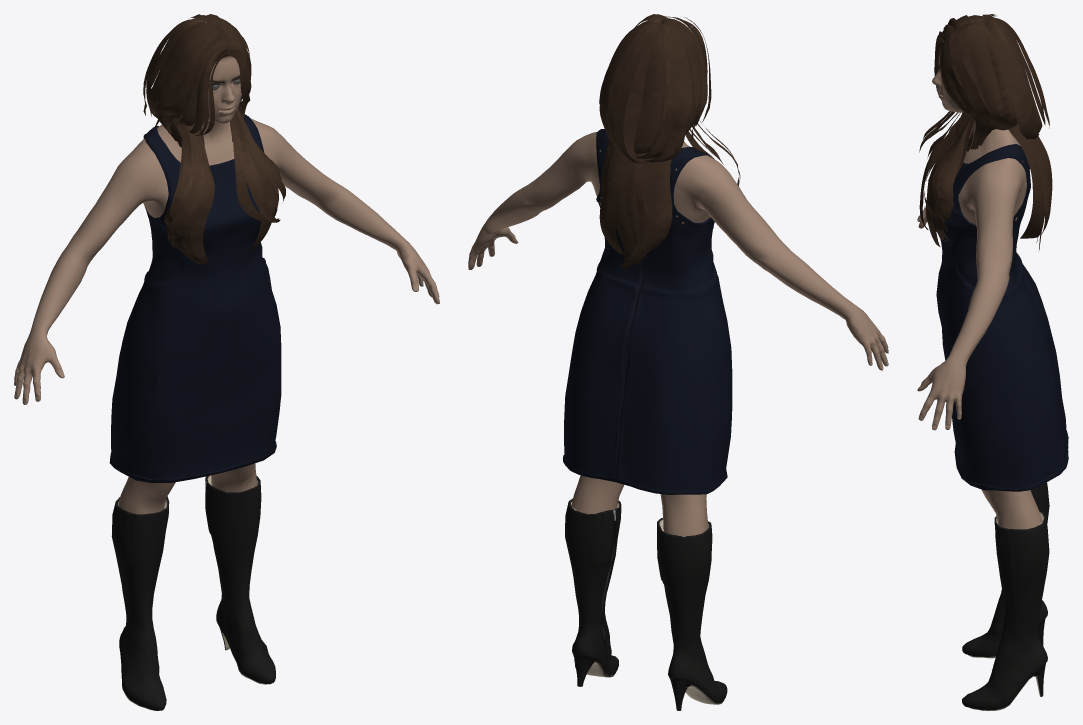
Rendered from 0019-People-cast-cooked-mh-48.glb.
The picture shows the model from 3 angles, left to right: view 1: azimuth 30°, elevation 25°; view 2: azimuth 150°, elevation 25°; view 3: azimuth 270°, elevation 25°; orthographic projection.
Visible parts, largest first — view 1: People: cast (cooked)/mh_48; view 2: People: cast (cooked)/mh_48; view 3: People: cast (cooked)/mh_48.
Boxes of the visible parts, x1,y1,x2,y2 form: People: cast (cooked)/mh_48: [14, 14, 439, 710]; People: cast (cooked)/mh_48: [468, 14, 888, 710]; People: cast (cooked)/mh_48: [917, 14, 1068, 710].
Size of the model in its own units: 1.11 by 1.71 by 0.353.
